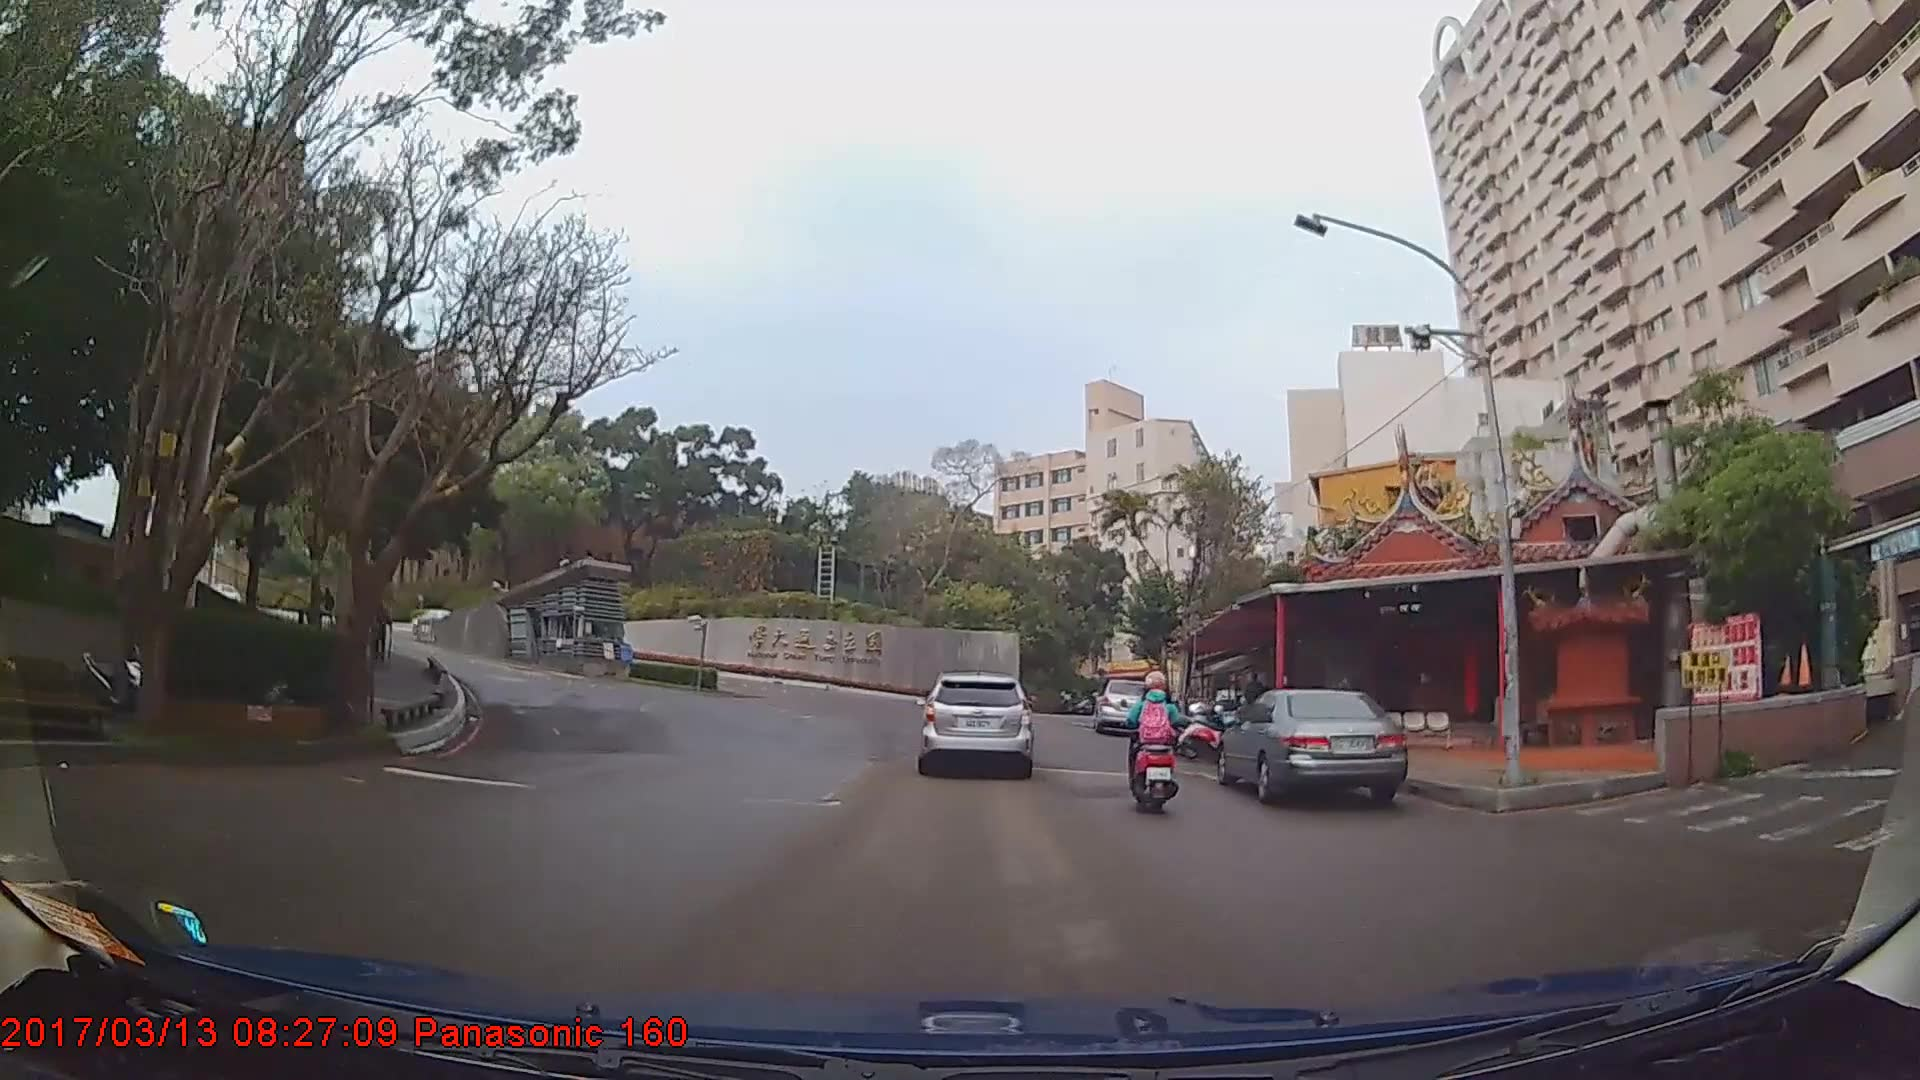rider: (1125, 661, 1188, 813)
vehicle: (1212, 686, 1406, 811), (917, 670, 1031, 776), (1093, 676, 1152, 731)
